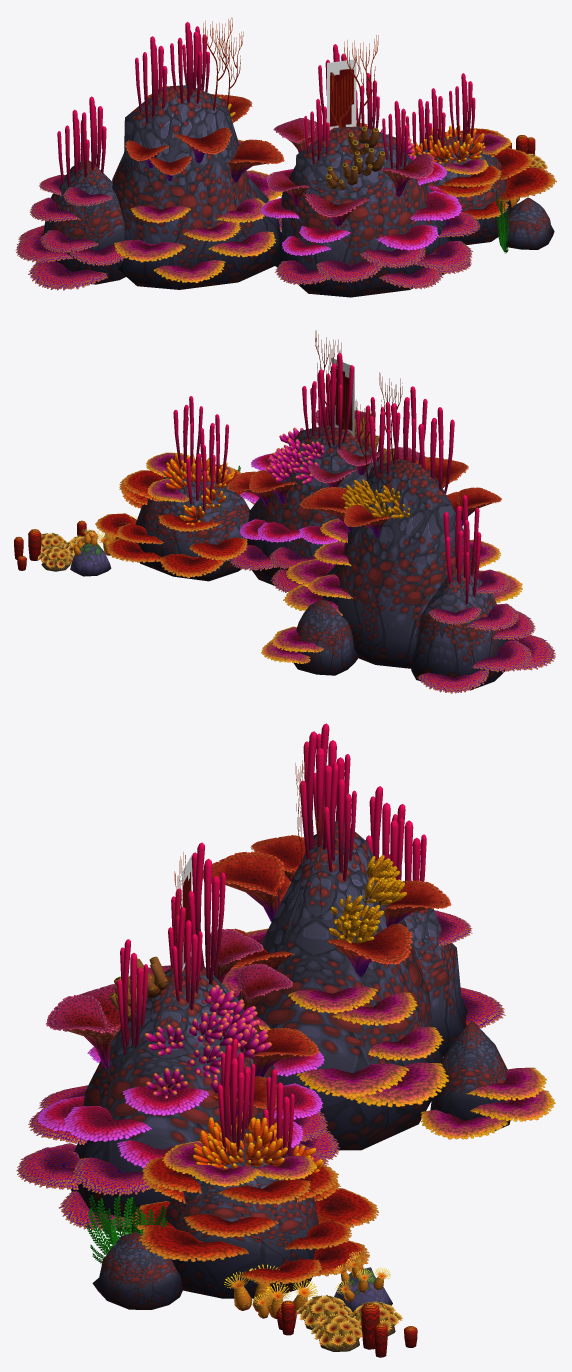
The model's file is CoralSet_06.FBX.
3 renders of one model, top to bottom at view 1: azimuth 30°, elevation 25°; view 2: azimuth 150°, elevation 25°; view 3: azimuth 270°, elevation 25°, orthographic. The views are drawn at different scales.
Visible parts, largest first — view 1: Box025, Box024, CoralSet_06, Plane403, Box027, Box023, Plane404, Plane402, Plane398, Plane424, Line341, Line342 (+31 smaller); view 2: Box025, CoralSet_06, Box027, Box024, Plane404, Box023, Box026, Plane402, Plane403, Line296, Line342, Line344 (+27 smaller); view 3: Box025, CoralSet_06, Box024, Box023, Plane404, Plane403, Plane402, Box027, Box026, Line296, Plane396, Plane407 (+22 smaller).
Boxes of the visible parts, bbox=[...] form: Box025: bbox=[112, 85, 280, 289]; Box024: bbox=[271, 126, 452, 297]; CoralSet_06: bbox=[124, 94, 434, 226]; Plane403: bbox=[275, 211, 479, 289]; Box027: bbox=[42, 160, 125, 284]; Box023: bbox=[412, 136, 554, 249]; Plane404: bbox=[435, 128, 556, 219]; Plane402: bbox=[260, 162, 462, 250]; Plane398: bbox=[327, 59, 356, 130]; Plane424: bbox=[28, 260, 108, 290]; Line341: bbox=[170, 22, 202, 103]; Line342: bbox=[135, 36, 167, 122]; Box025: bbox=[322, 458, 475, 668]; CoralSet_06: bbox=[70, 407, 501, 576]; Box027: bbox=[411, 563, 508, 689]; Box024: bbox=[246, 425, 383, 585]; Plane404: bbox=[95, 466, 247, 578]; Box023: bbox=[135, 467, 249, 581]; Box026: bbox=[293, 600, 359, 675]; Plane402: bbox=[239, 453, 338, 544]; Plane403: bbox=[229, 501, 316, 592]; Line296: bbox=[318, 352, 353, 448]; Line342: bbox=[418, 407, 454, 493]; Line344: bbox=[445, 519, 481, 604]; Box025: bbox=[237, 820, 443, 1150]; CoralSet_06: bbox=[46, 835, 451, 1316]; Box024: bbox=[71, 956, 279, 1233]; Box023: bbox=[92, 1128, 318, 1309]; Plane404: bbox=[131, 1157, 378, 1283]; Plane403: bbox=[16, 1085, 340, 1230]; Plane402: bbox=[37, 1047, 324, 1168]; Box027: bbox=[404, 908, 467, 1056]; Box026: bbox=[430, 1020, 510, 1130]; Line296: bbox=[188, 842, 225, 984]; Plane396: bbox=[162, 1141, 316, 1187]; Plane407: bbox=[296, 1063, 409, 1098].
Size of the model in its own units: 1494 by 681 by 921.
